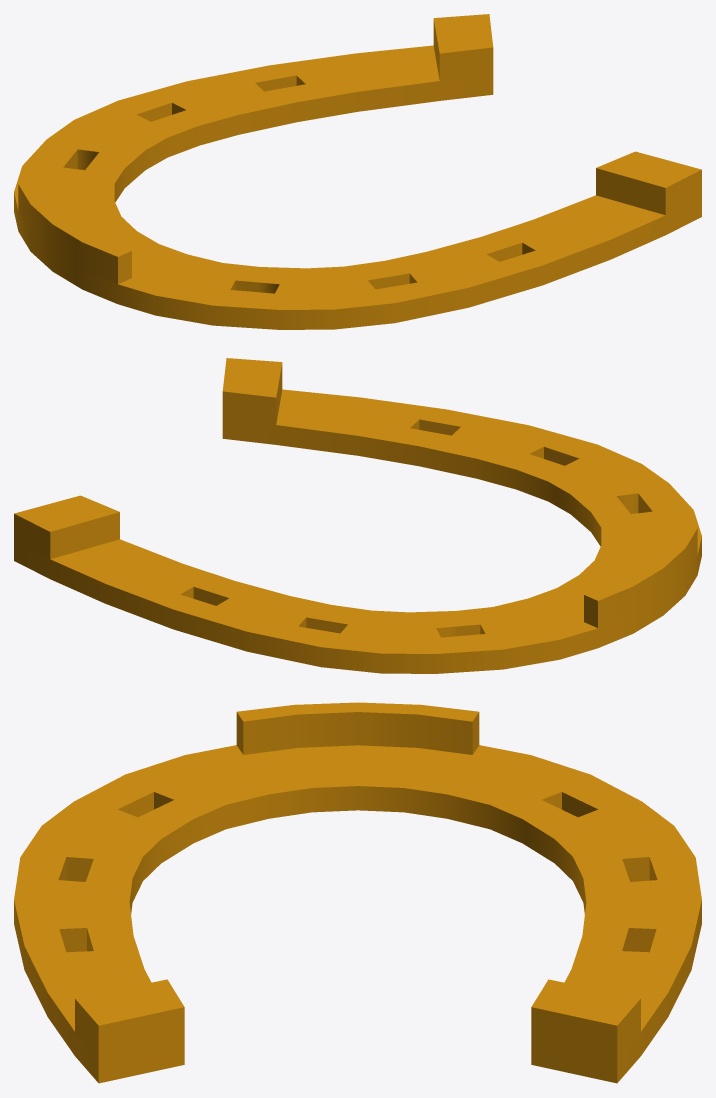
The model's file is sleipnir_horseshoe.glb.
The picture shows the model from 3 angles, top to bottom: view 1: azimuth 30°, elevation 25°; view 2: azimuth 150°, elevation 25°; view 3: azimuth 270°, elevation 25°; orthographic projection. The views are drawn at different scales.
Visible parts, largest first — view 1: Object_2; view 2: Object_2; view 3: Object_2.
Part boxes in pixels (x1,y1,x2,y2): Object_2: (14, 14, 701, 329); Object_2: (14, 358, 701, 673); Object_2: (14, 702, 701, 1083).
Bounding box in the file's own units: 354 × 29.51 × 319.
Materials: 1 (1 with a texture image).
